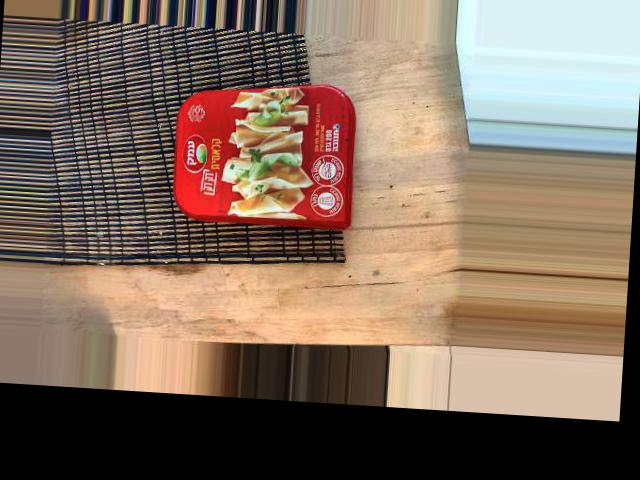cheese: (102, 30, 240, 226)
